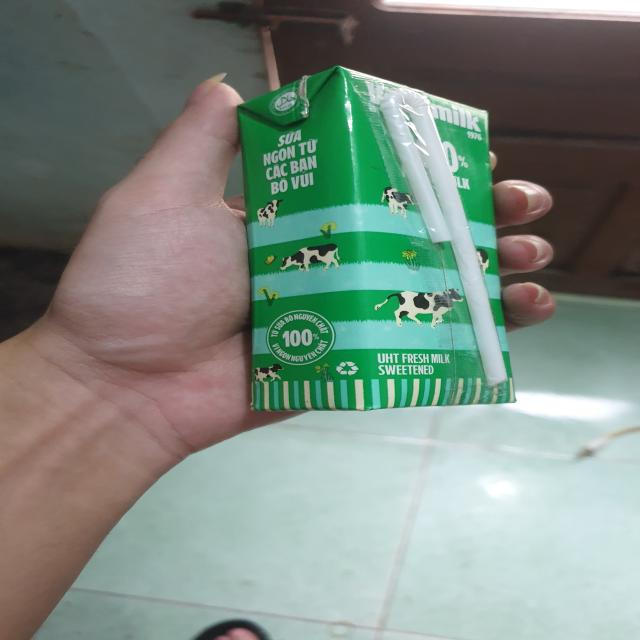Vina: (232, 65, 520, 416)
